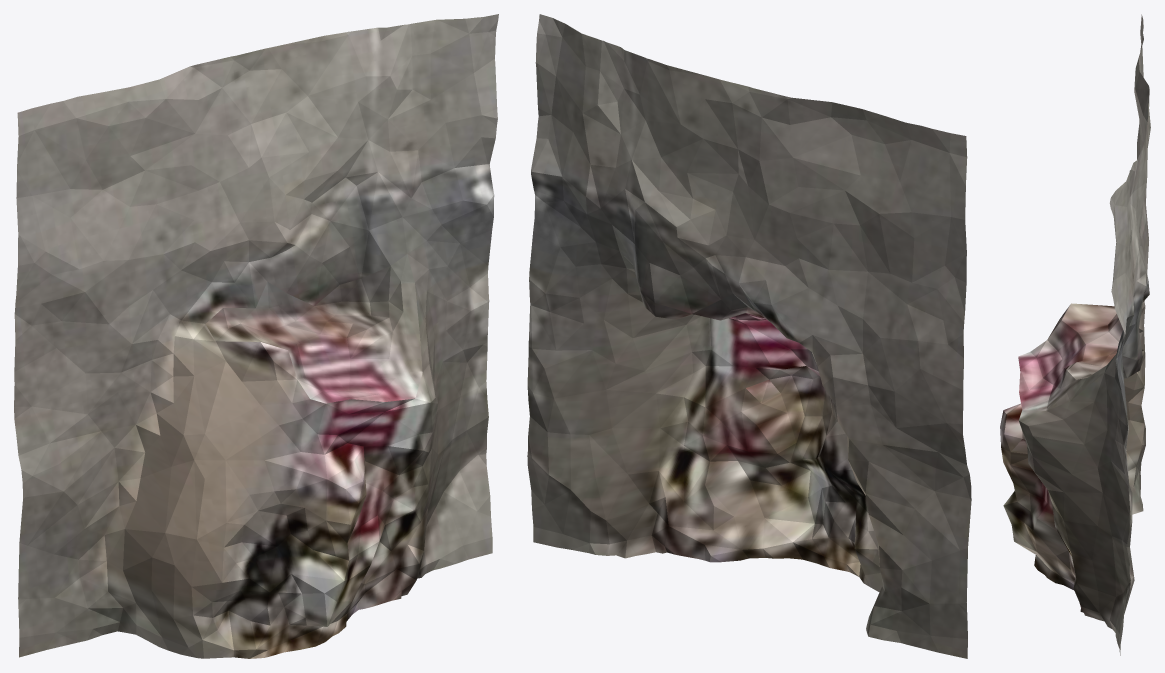
Rendered from tile_5_13_16_tex.obj.
3 views of the same model, side by side, from view 1: azimuth 30°, elevation 25°; view 2: azimuth 150°, elevation 25°; view 3: azimuth 270°, elevation 25° (orthographic). The views are drawn at different scales.
Parts seen in each view (by area): view 1: obj_0; view 2: obj_0; view 3: obj_0.
Part boxes in pixels (box(x1,y1,x2,y2)): obj_0: box(14, 14, 498, 658); obj_0: box(527, 14, 971, 658); obj_0: box(1000, 14, 1150, 655).
Size of the model in its own units: 5.01 by 5.64 by 1.69.
1 material, 1 textured.
